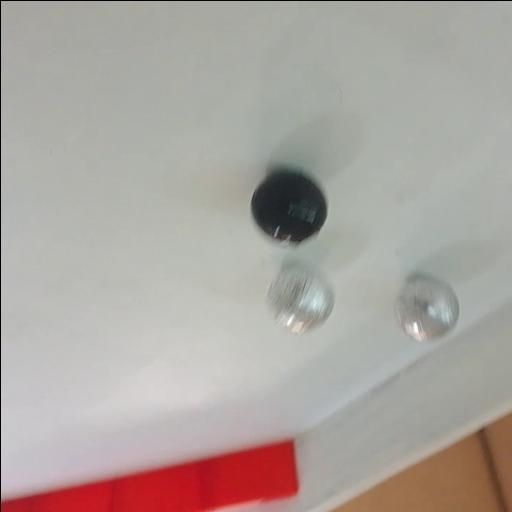alive: (260, 262, 336, 335), (390, 272, 462, 344)
dead: (244, 166, 330, 250)
